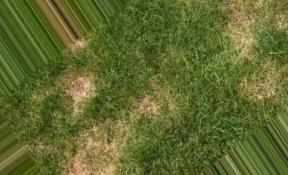patch: (68, 122, 128, 172), (61, 71, 112, 114), (233, 12, 268, 70), (132, 98, 180, 126)
